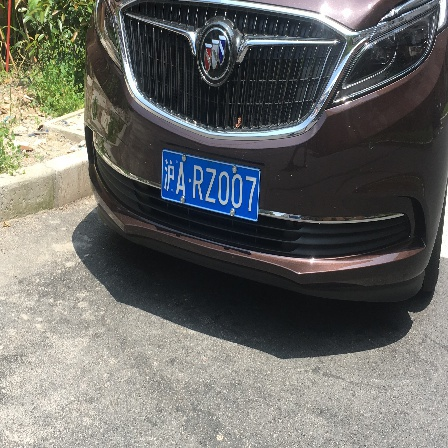plate: (156, 148, 263, 222)
